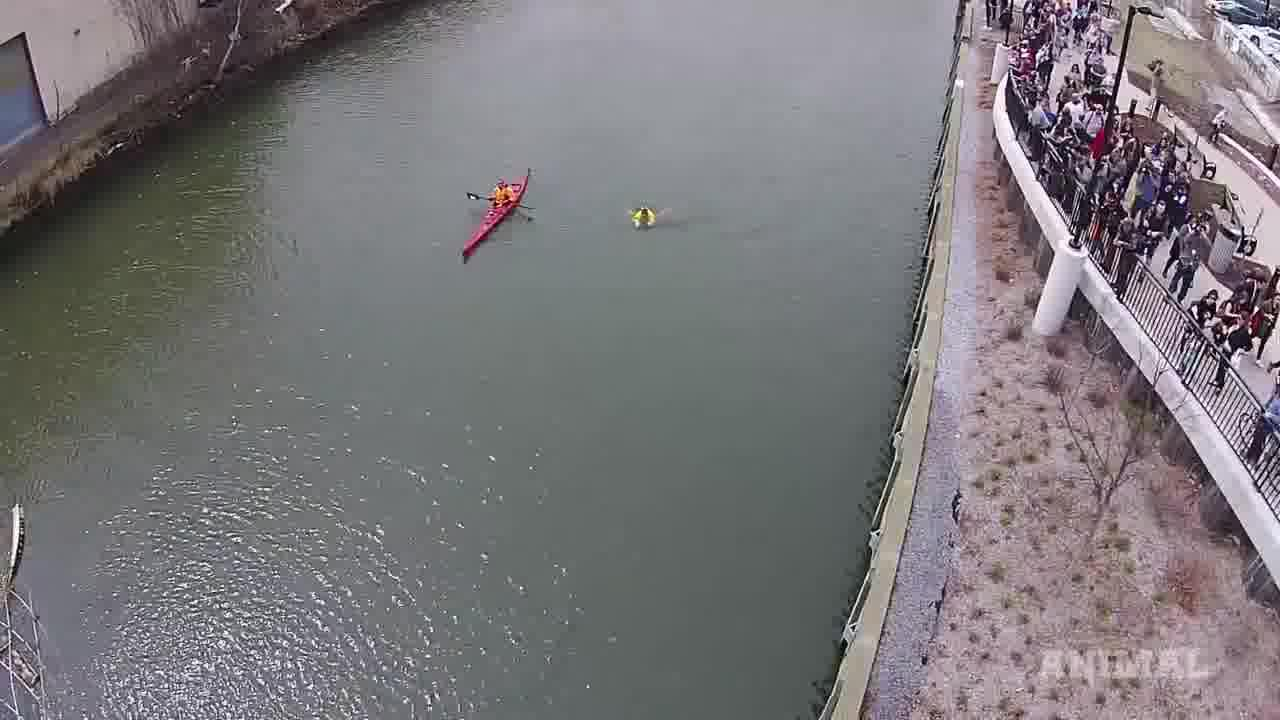human: (621, 189, 664, 232)
